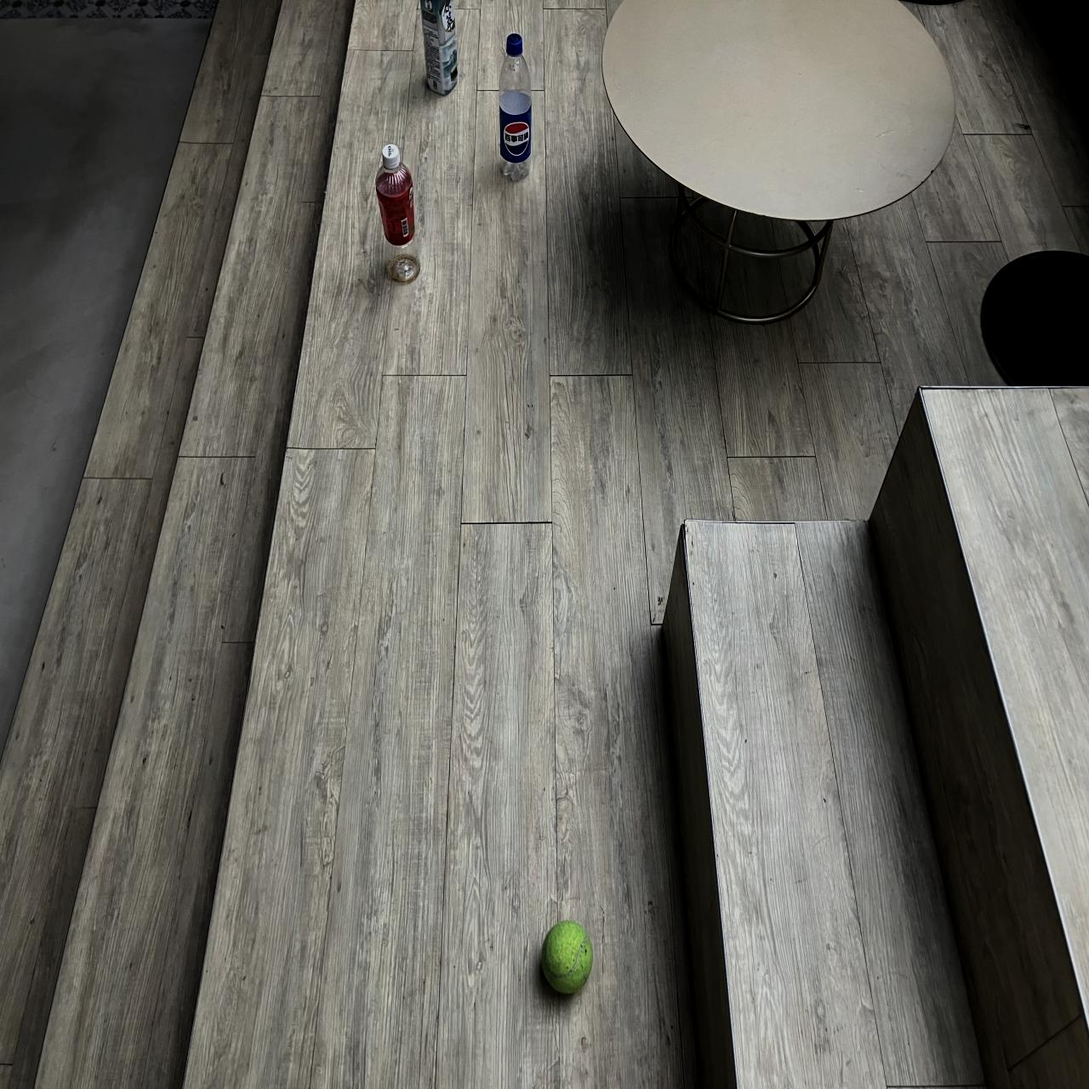plastic-bottle: (376, 144, 419, 282), (499, 33, 531, 180), (420, 0, 458, 94)
tennisball: (541, 921, 593, 994)
